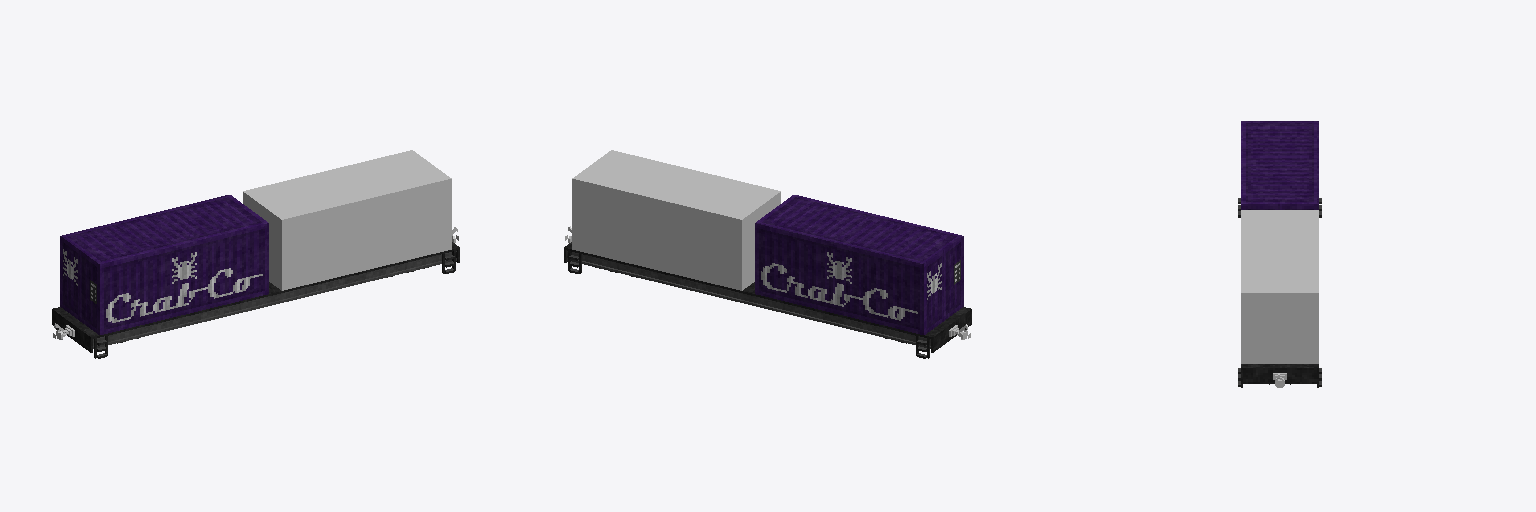
3 renders of one model, left to right at view 1: azimuth 30°, elevation 25°; view 2: azimuth 150°, elevation 25°; view 3: azimuth 270°, elevation 25°, orthographic.
Visible parts, largest first — view 1: CARGO_FILL_1_Cube.002, CARGO_FILL_50_Cube.052, FRAME_Cube.007; view 2: CARGO_FILL_1_Cube.002, CARGO_FILL_50_Cube.052, FRAME_Cube.007; view 3: CARGO_FILL_50_Cube.052, CARGO_FILL_1_Cube.002, FRAME_Cube.007.
Part boxes in pixels (x1,y1,x2,y2): CARGO_FILL_1_Cube.002: (60, 195, 268, 334); CARGO_FILL_50_Cube.052: (243, 150, 451, 290); FRAME_Cube.007: (52, 242, 459, 358); CARGO_FILL_1_Cube.002: (755, 195, 963, 334); CARGO_FILL_50_Cube.052: (572, 150, 780, 290); FRAME_Cube.007: (564, 242, 971, 358); CARGO_FILL_50_Cube.052: (1241, 210, 1318, 363); CARGO_FILL_1_Cube.002: (1241, 121, 1318, 209); FRAME_Cube.007: (1238, 198, 1321, 387).
Bounding box in the file's own units: 11.88 × 2.75 × 2.12.
5 materials, 3 textured.